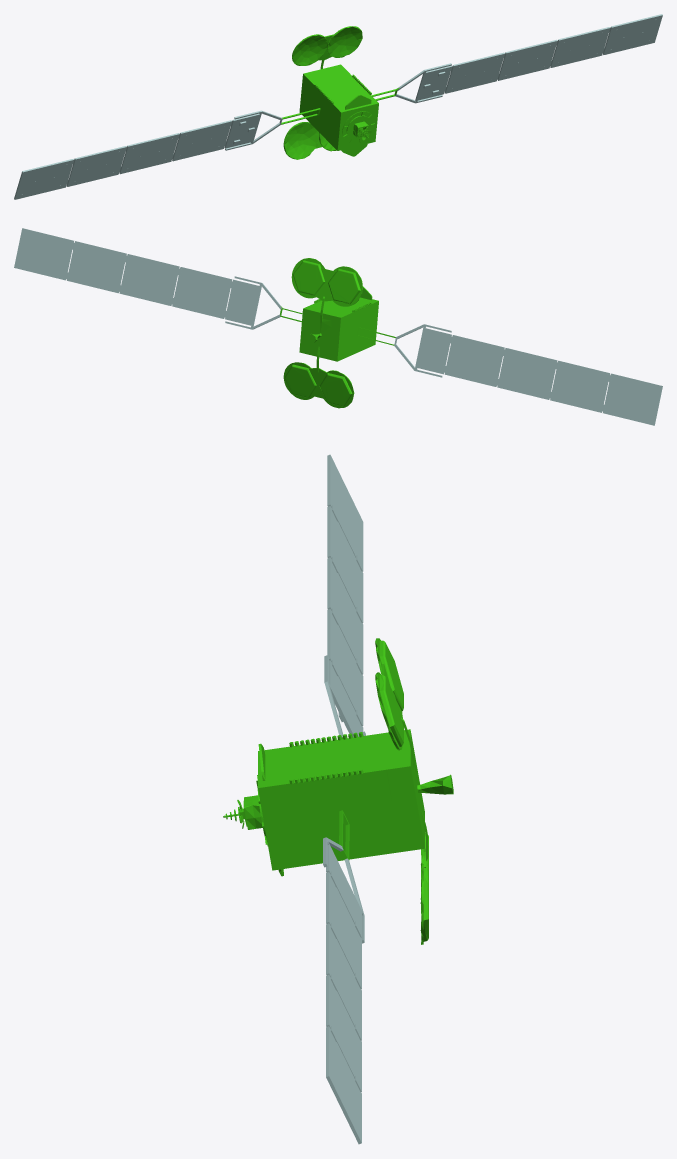
The model's file is hylas4.obj.
3 renders of one model, top to bottom at view 1: azimuth 30°, elevation 25°; view 2: azimuth 150°, elevation 25°; view 3: azimuth 270°, elevation 25°, orthographic. The views are drawn at different scales.
Parts seen in each view (by area): view 1: HYLAS_4; view 2: HYLAS_4; view 3: HYLAS_4.
Part boxes in pixels (<box>): HYLAS_4: <box>14,14,662,199</box>; HYLAS_4: <box>14,228,662,425</box>; HYLAS_4: <box>223,454,453,1144</box>.
Size of the model in its own units: 4.14 by 0.8195 by 0.646.
